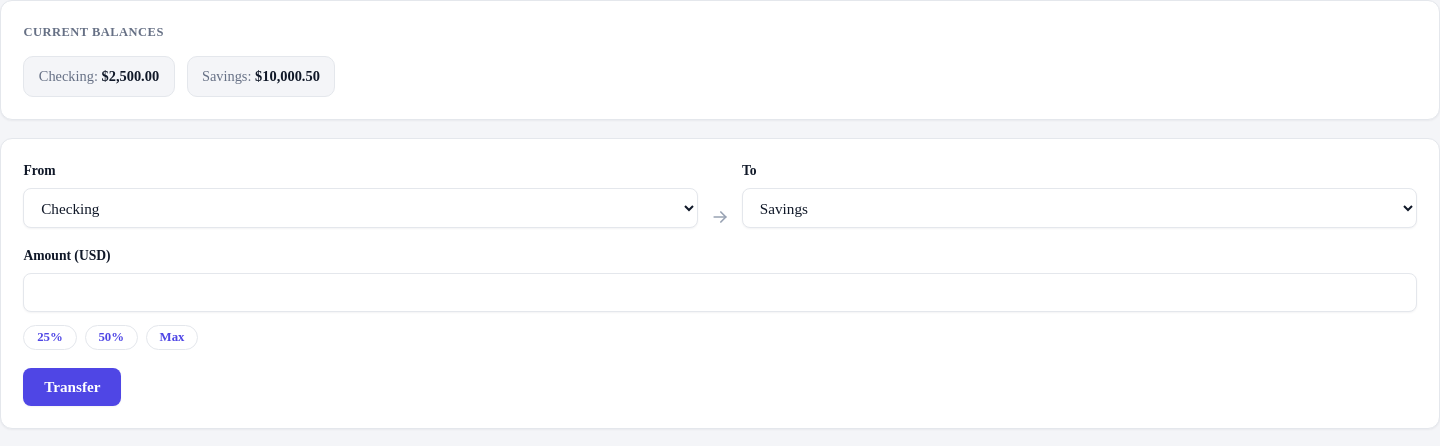
Test: TransferForm quick amounts › fills the amount with the source account balance on Max
Click the button "Max".
click(172, 338)  # box [146,325,198,350]
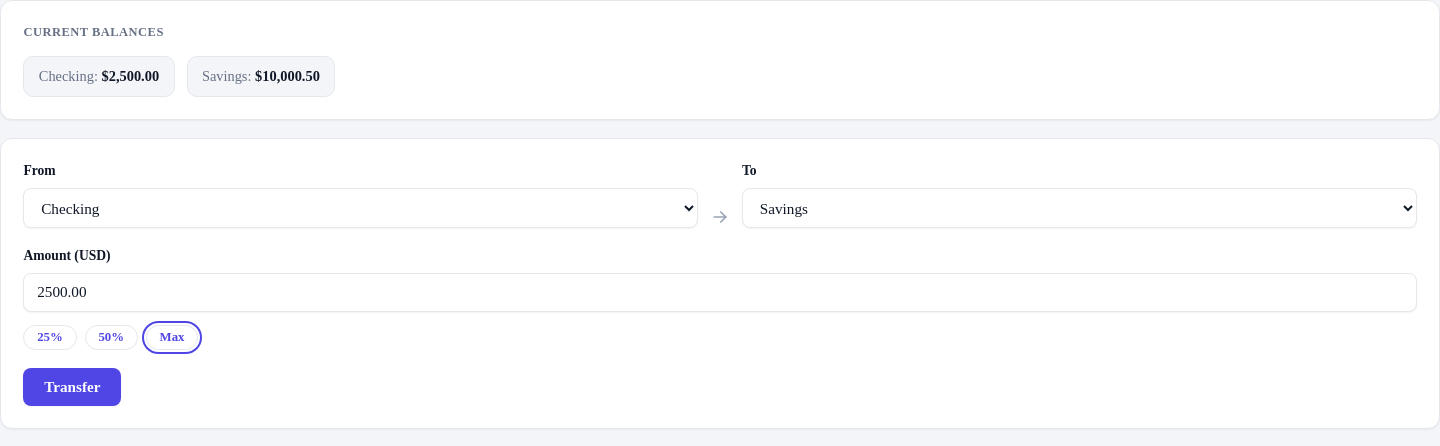
Result: the number field labelled "Amount (USD)" holds "2500" at [23,273,1417,312]
